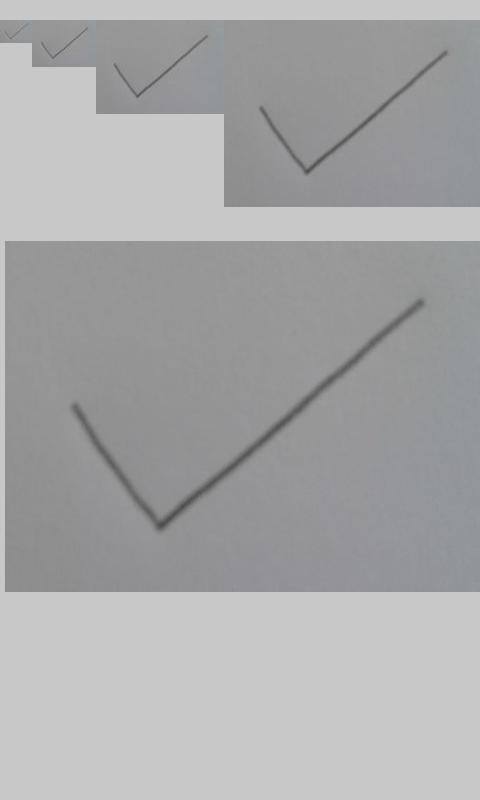check_box: (70, 300, 423, 531), (261, 51, 447, 174), (113, 35, 208, 98), (41, 27, 87, 59), (5, 23, 26, 40)
